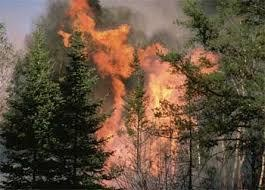fire: (81, 19, 197, 177), (187, 43, 221, 73)
